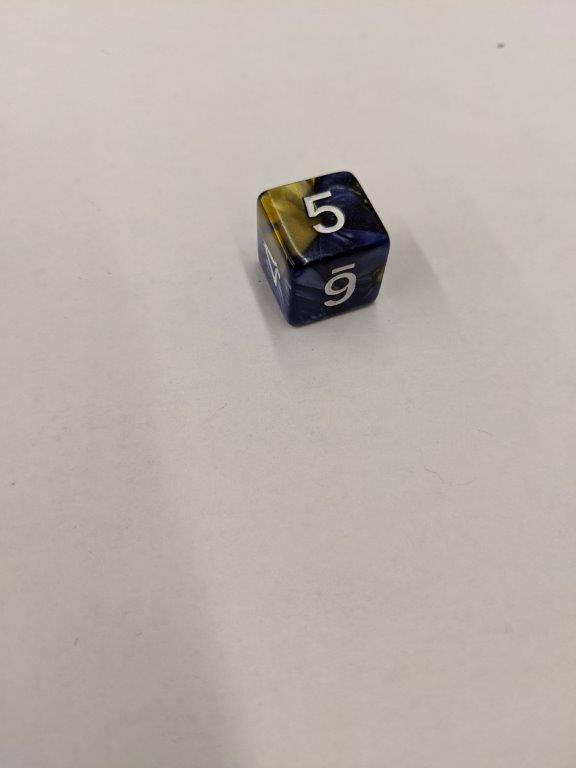d6-5: (256, 170, 390, 328)
